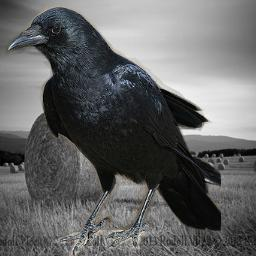Crow: (4, 5, 221, 256)
